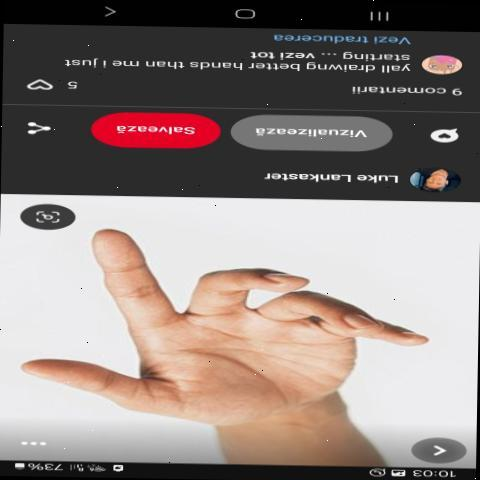Hands: (8, 233, 440, 432)
